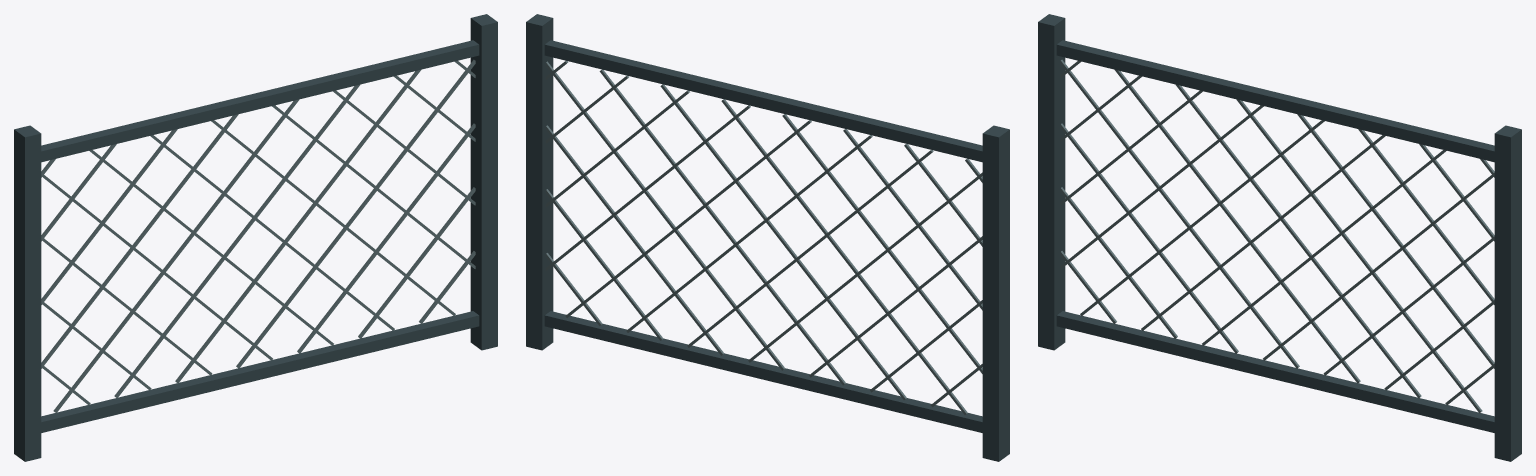
File: Prop_Daily_MeshFence_001.glb
3 views of the same model, side by side, from view 1: azimuth 30°, elevation 25°; view 2: azimuth 150°, elevation 25°; view 3: azimuth 330°, elevation 25° (orthographic).
Visible parts, largest first — view 1: Prop_Daily_MeshFence_001; view 2: Prop_Daily_MeshFence_001; view 3: Prop_Daily_MeshFence_001.
Boxes of the visible parts, bbox=[...] form: Prop_Daily_MeshFence_001: bbox=[14, 14, 497, 461]; Prop_Daily_MeshFence_001: bbox=[526, 14, 1009, 461]; Prop_Daily_MeshFence_001: bbox=[1038, 14, 1521, 461].
Bounding box in the file's own units: 2.48 × 1.63 × 0.1.
